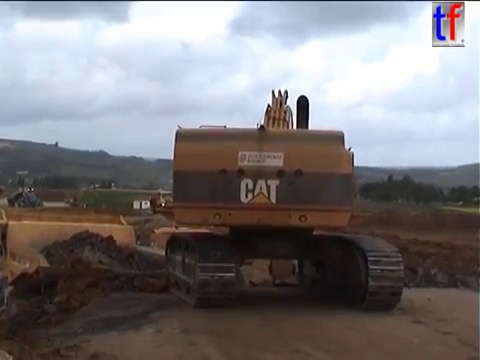excavator: (160, 86, 409, 314)
truck: (1, 208, 216, 360), (148, 224, 243, 301), (131, 192, 173, 218)
